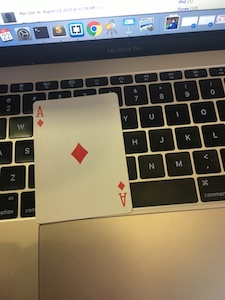AceOfDiamonds: (26, 89, 135, 226)
